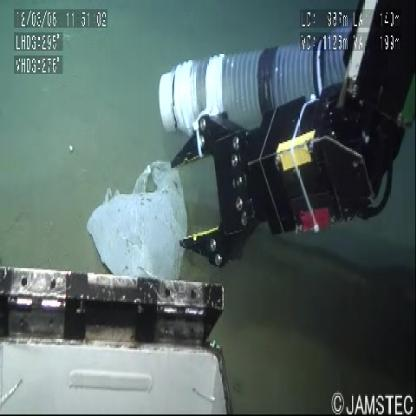Rov: (151, 4, 416, 288), (0, 252, 238, 416)
Rác: (79, 142, 192, 276)
